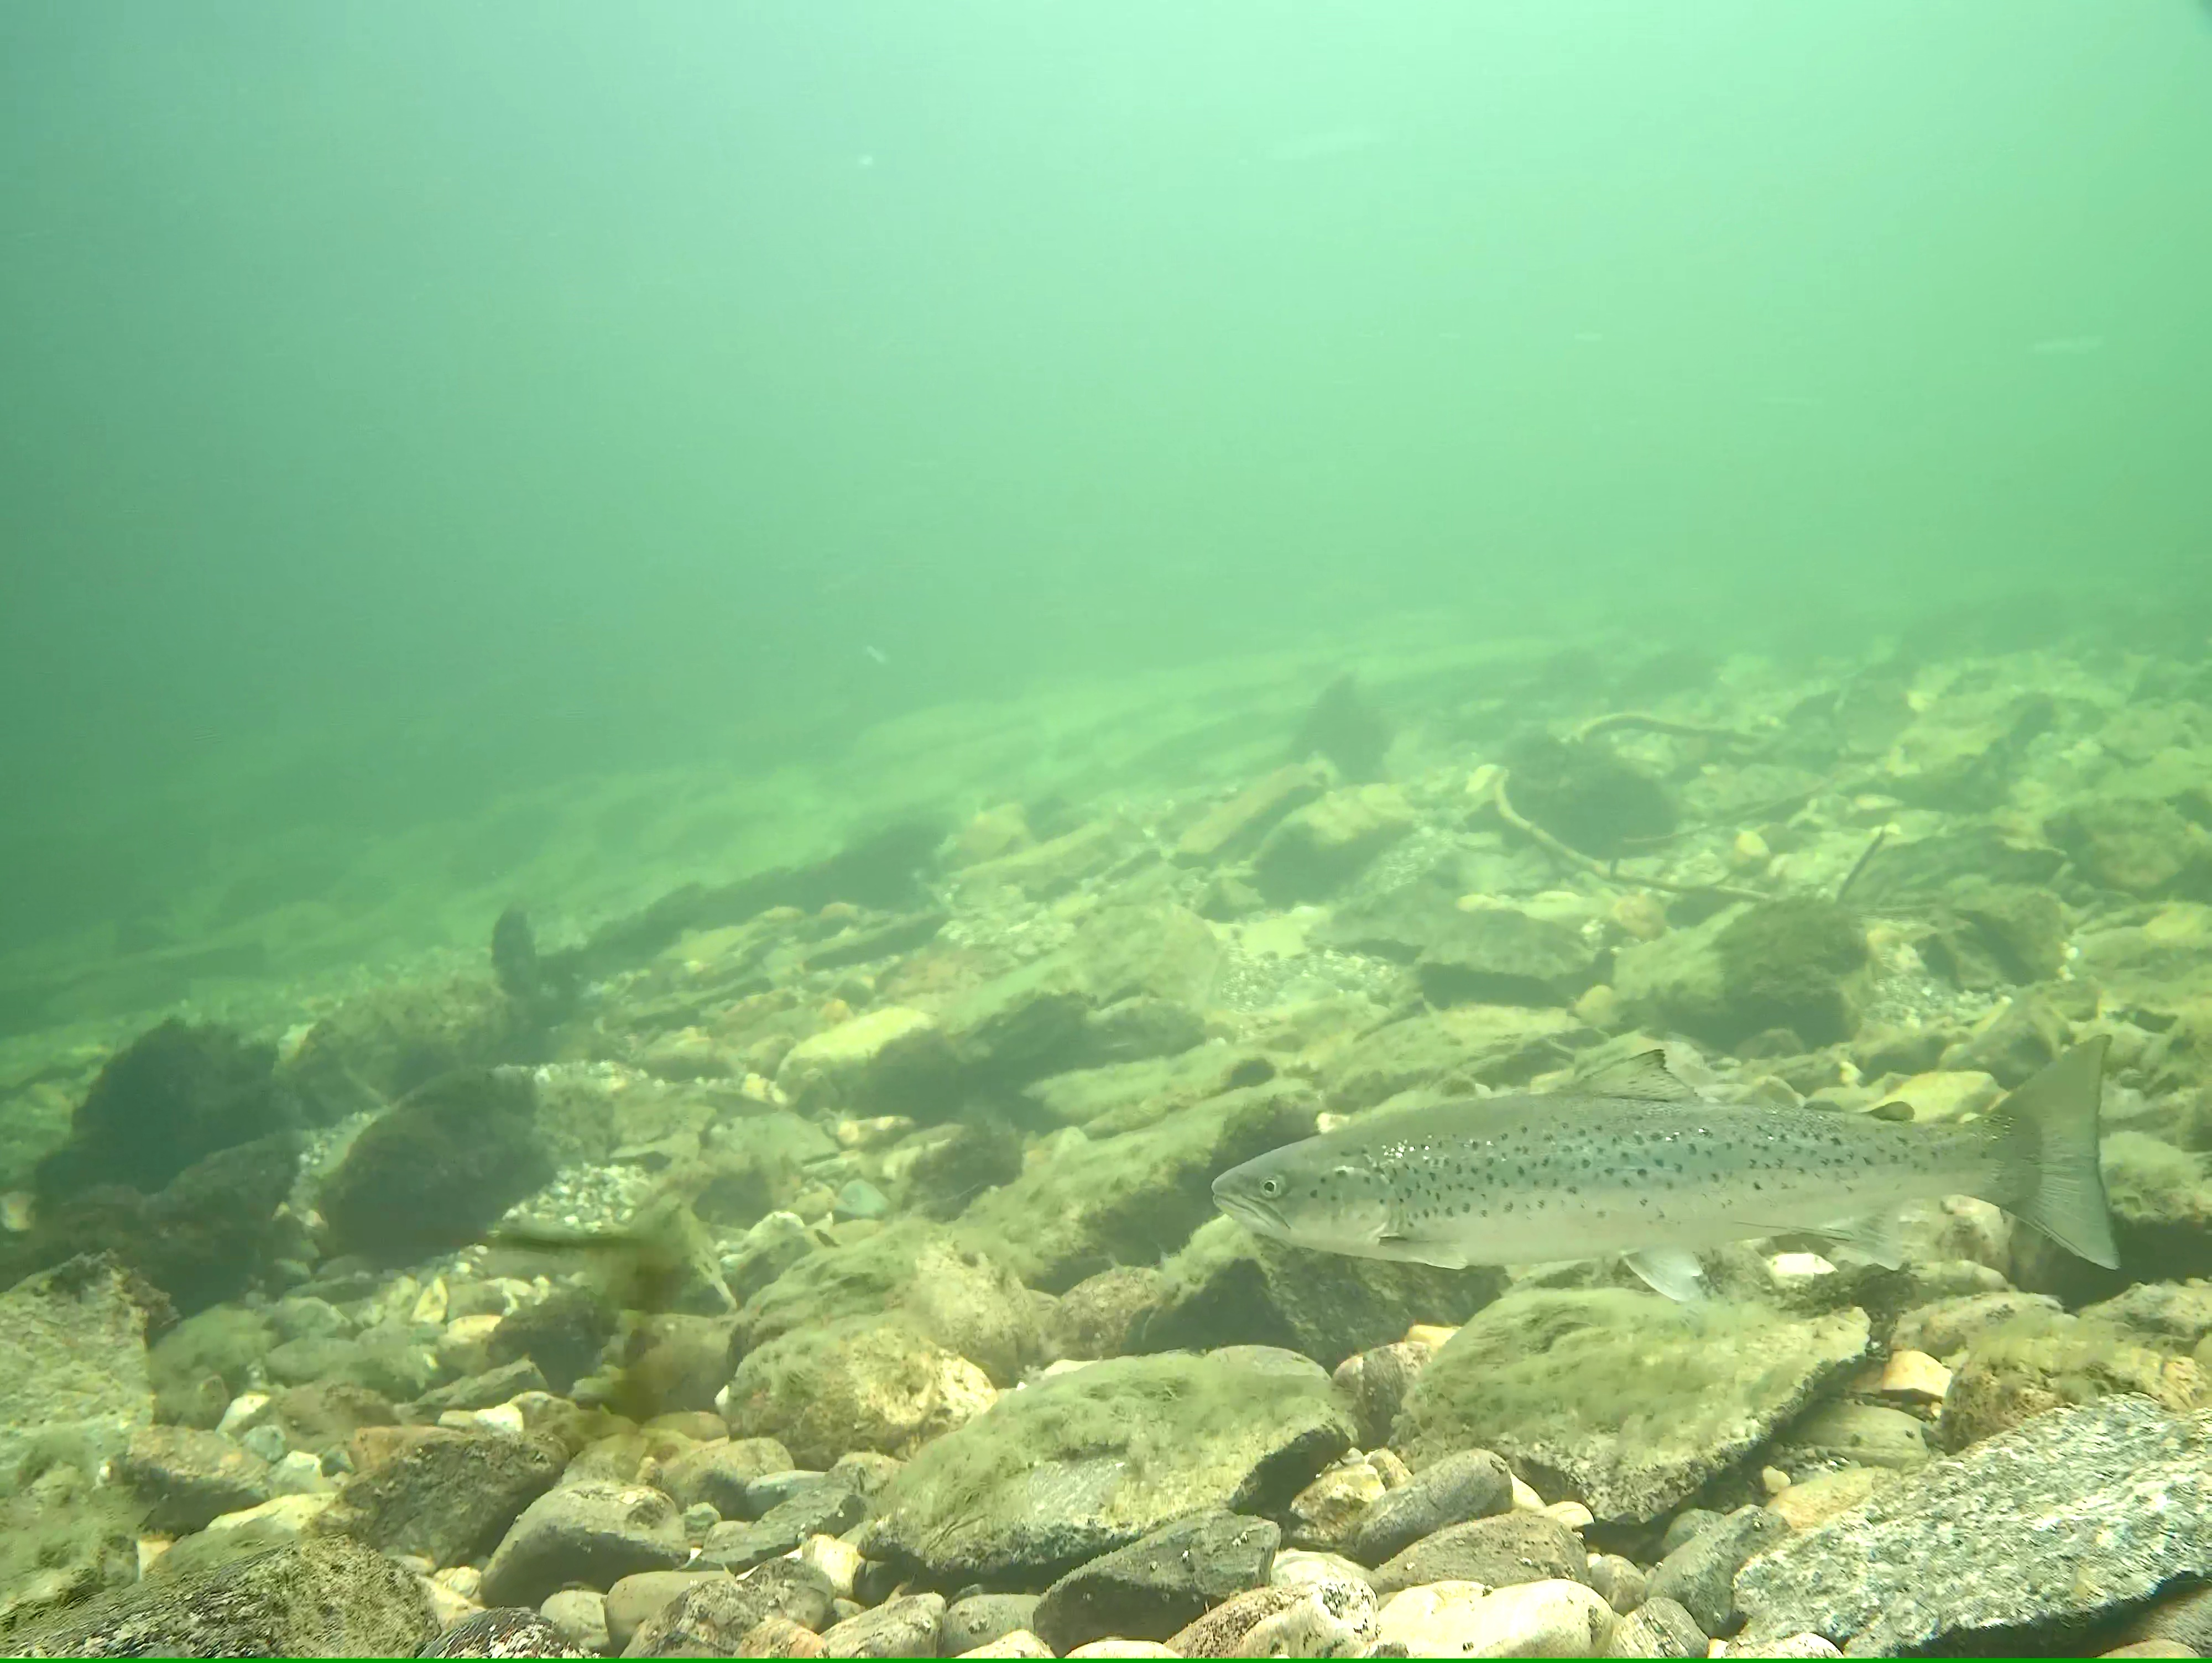salmon: (1209, 1031, 2123, 1303)
